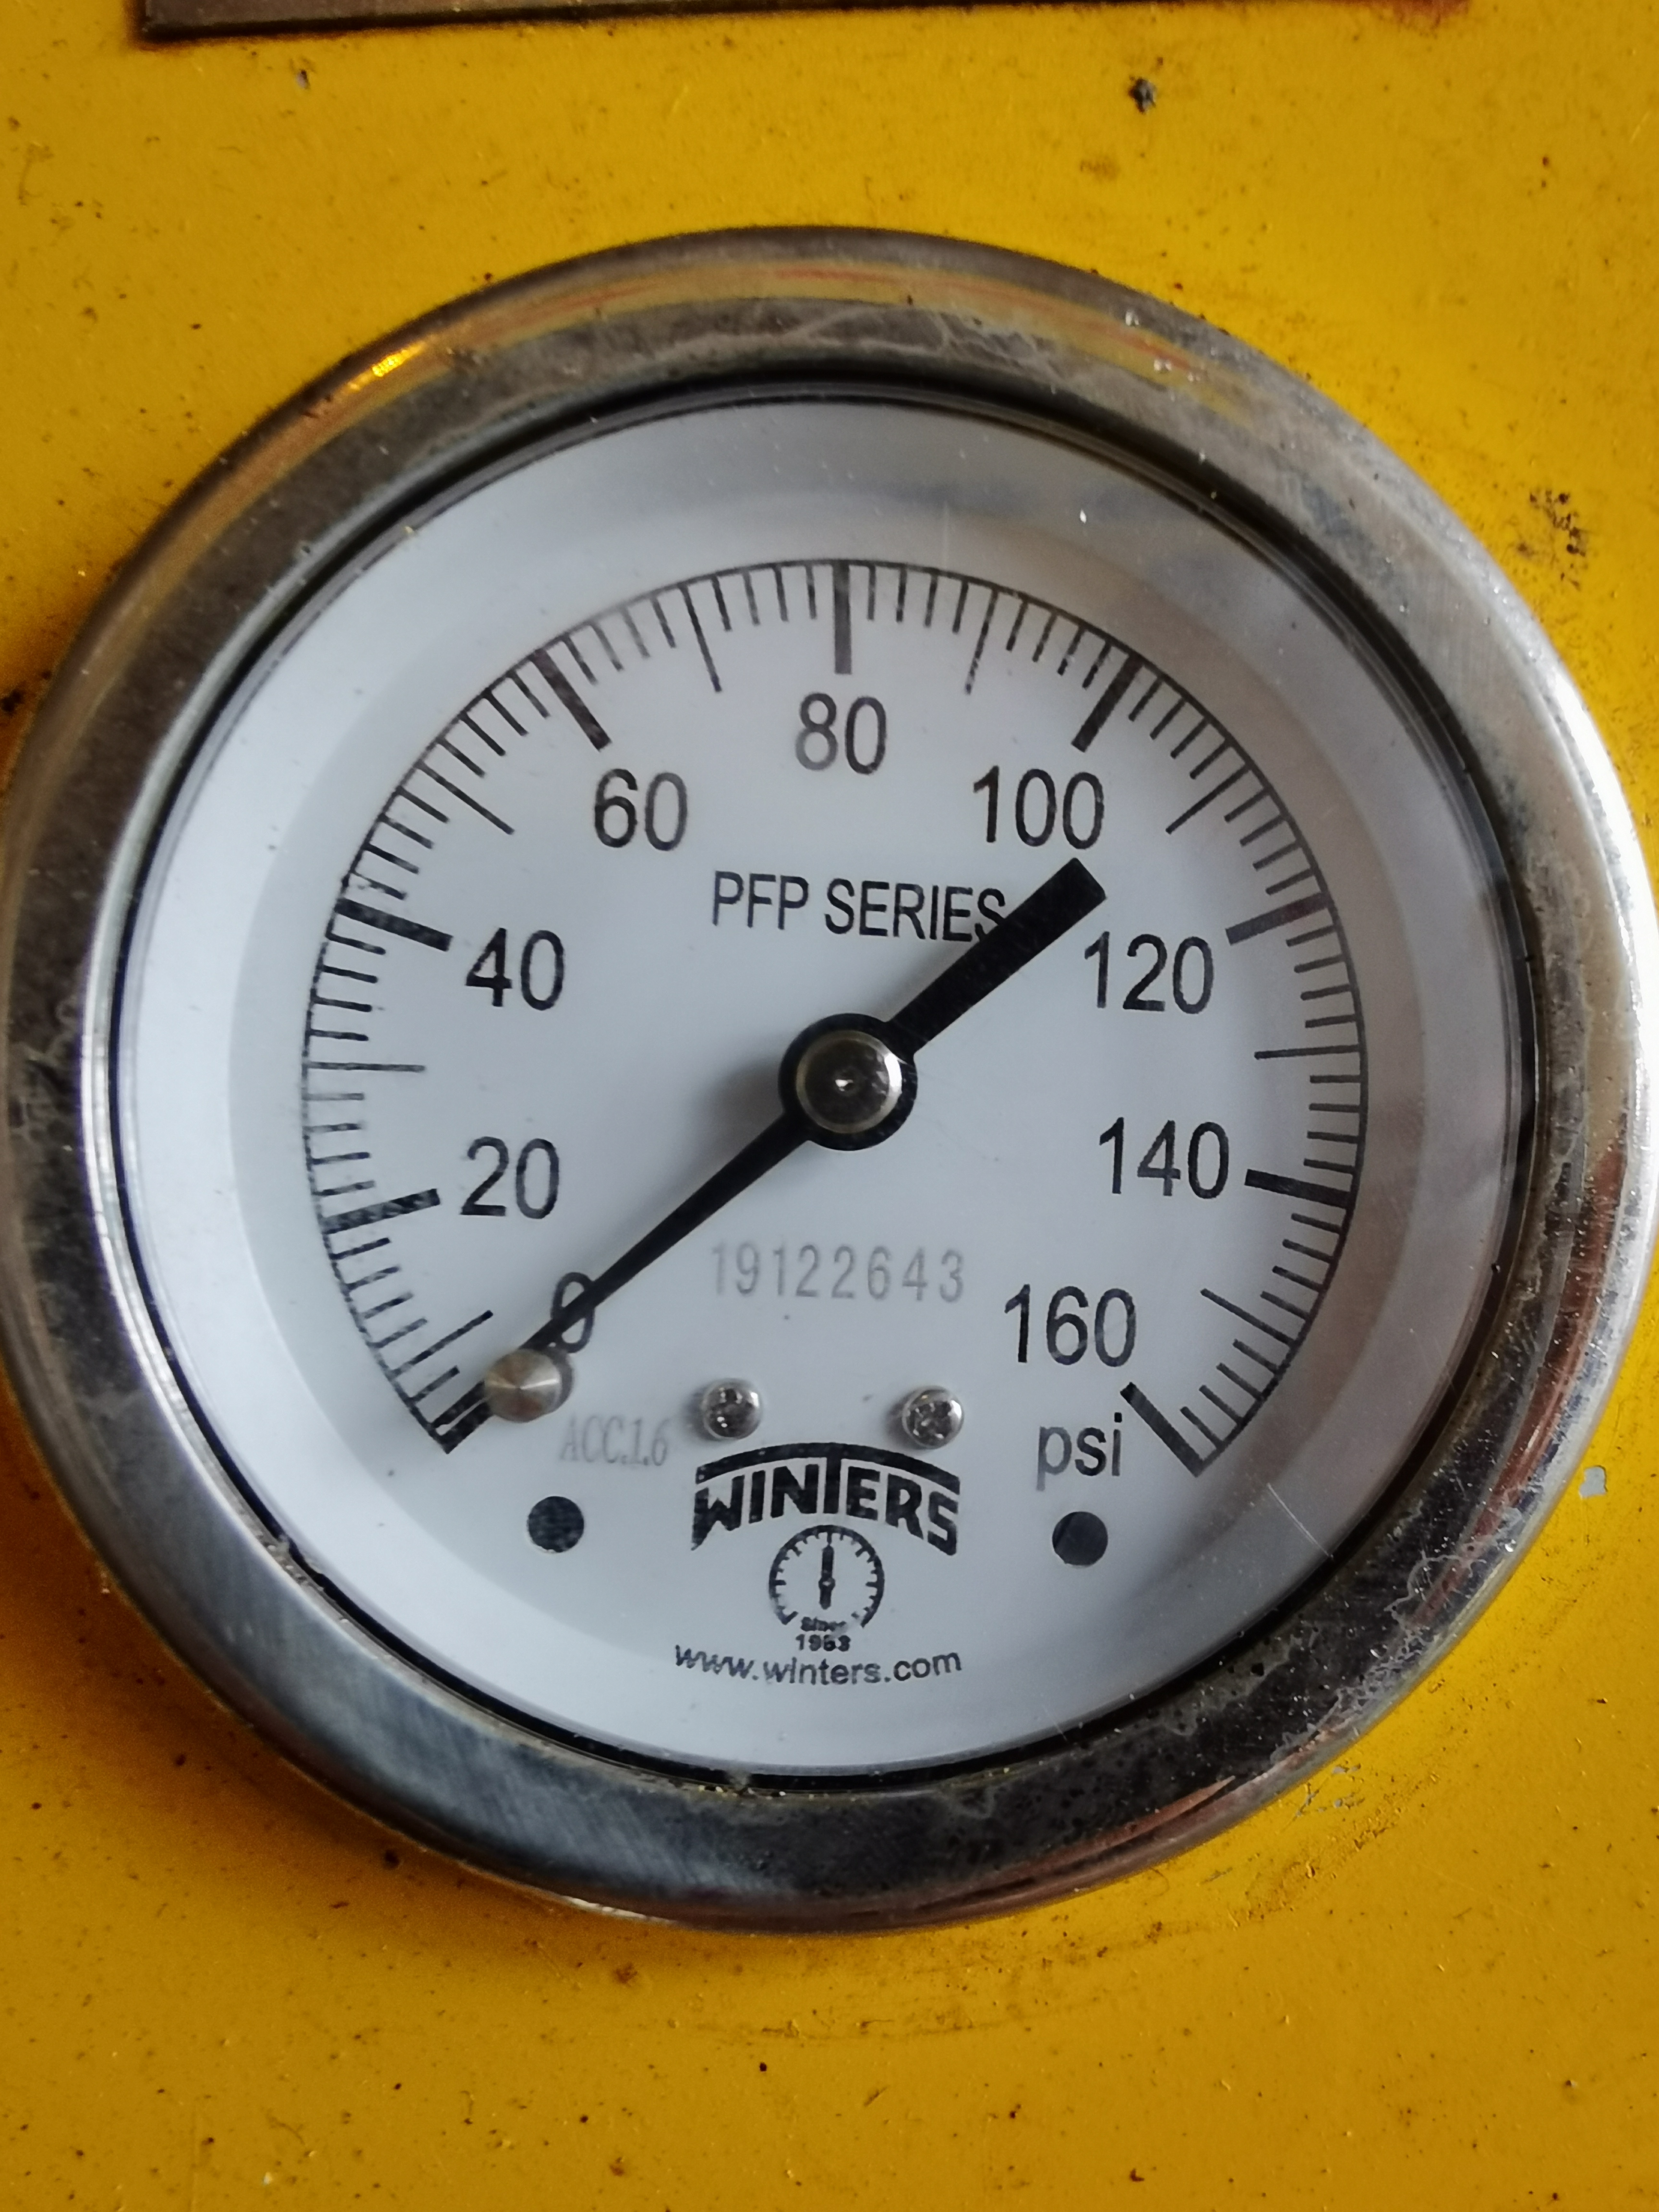0: (547, 1270, 603, 1362)
100: (960, 763, 1112, 853)
120: (1086, 921, 1223, 1019)
140: (1094, 1106, 1241, 1209)
160: (1004, 1270, 1145, 1379)
20: (458, 1125, 572, 1228)
40: (465, 911, 566, 1017)
60: (587, 752, 699, 864)
80: (784, 681, 896, 784)
center: (788, 1022, 910, 1139)
